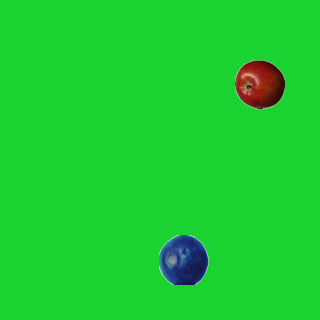Apple Braeburn: (234, 59, 284, 109)
Huckleberry: (158, 234, 208, 284)
